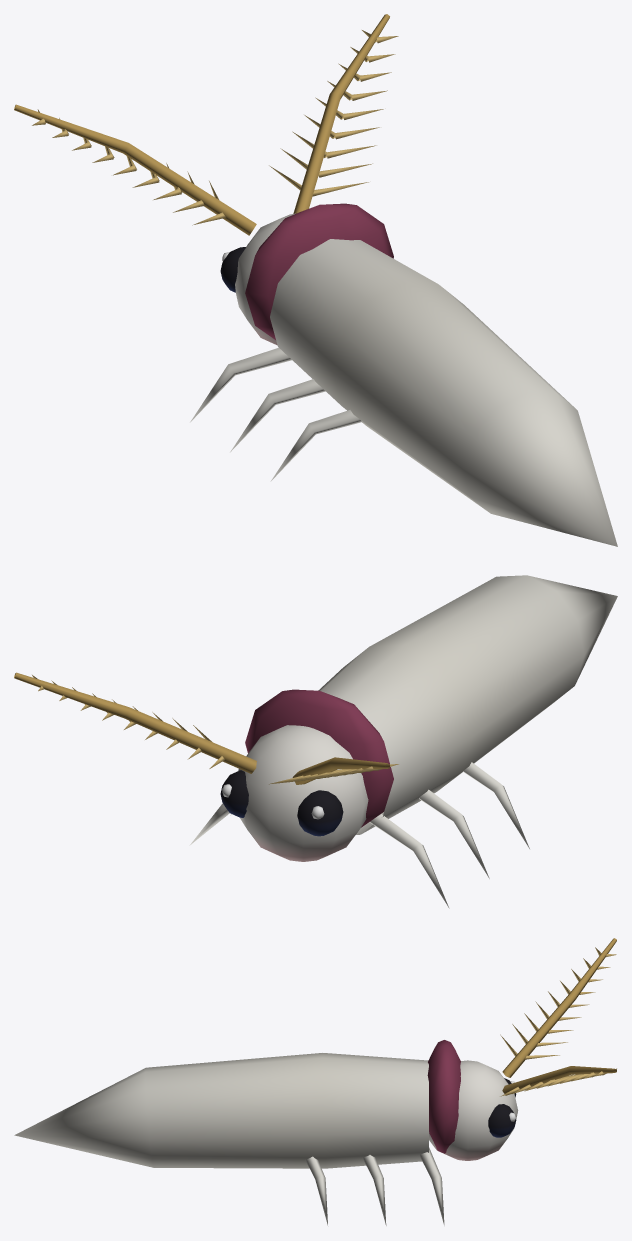
The model's file is Ga_Body.fbx.
The picture shows the model from 3 angles, top to bottom: view 1: azimuth 30°, elevation 25°; view 2: azimuth 150°, elevation 25°; view 3: azimuth 270°, elevation 25°; orthographic projection. The views are drawn at different scales.
Parts seen in each view (by area): view 1: Ga_Body; view 2: Ga_Body; view 3: Ga_Body.
Boxes of the visible parts, bbox=[...] form: Ga_Body: bbox=[14, 14, 617, 546]; Ga_Body: bbox=[14, 575, 617, 908]; Ga_Body: bbox=[14, 938, 616, 1225].
Bounding box in the file's own units: 0.8064 × 0.5056 × 1.56.
